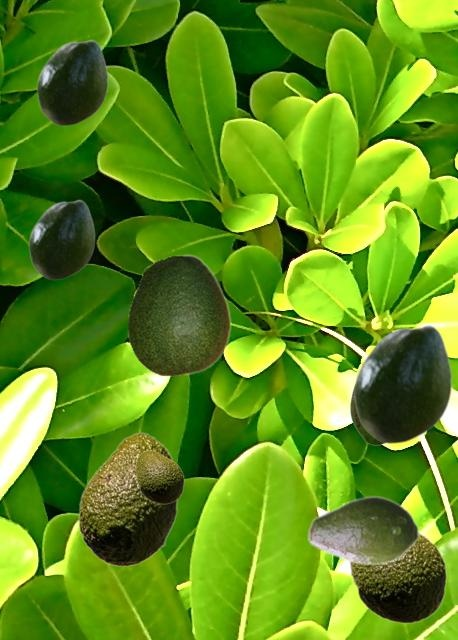avocado: (78, 432, 176, 566), (127, 254, 230, 375), (353, 324, 451, 443), (348, 532, 446, 623), (307, 495, 419, 565), (36, 39, 107, 125), (28, 199, 94, 279), (135, 450, 183, 503), (350, 389, 384, 444)
